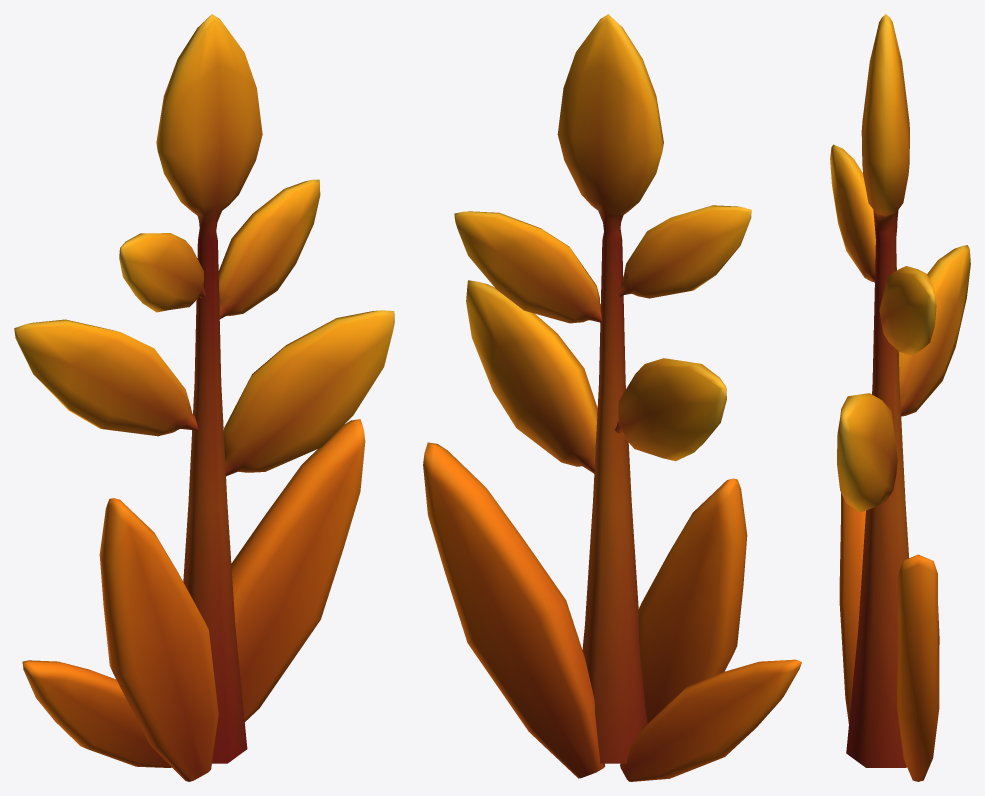
File: SM_Vegetation_Plant_J_Yellow.fbx
3 views of the same model, side by side, from view 1: azimuth 30°, elevation 25°; view 2: azimuth 150°, elevation 25°; view 3: azimuth 270°, elevation 25° (orthographic).
Parts seen in each view (by area): view 1: SM_Vegetation_Plant_J_Yellow; view 2: SM_Vegetation_Plant_J_Yellow; view 3: SM_Vegetation_Plant_J_Yellow.
Boxes of the visible parts, left/top/right/bottom form: SM_Vegetation_Plant_J_Yellow: left=14, top=14, right=394, bottom=781; SM_Vegetation_Plant_J_Yellow: left=423, top=14, right=801, bottom=781; SM_Vegetation_Plant_J_Yellow: left=830, top=14, right=970, bottom=781.
Size of the model in its own units: 68.58 by 138 by 23.19.
